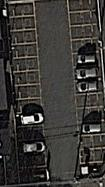parkingspot: (5, 1, 51, 187), (66, 0, 105, 179)
